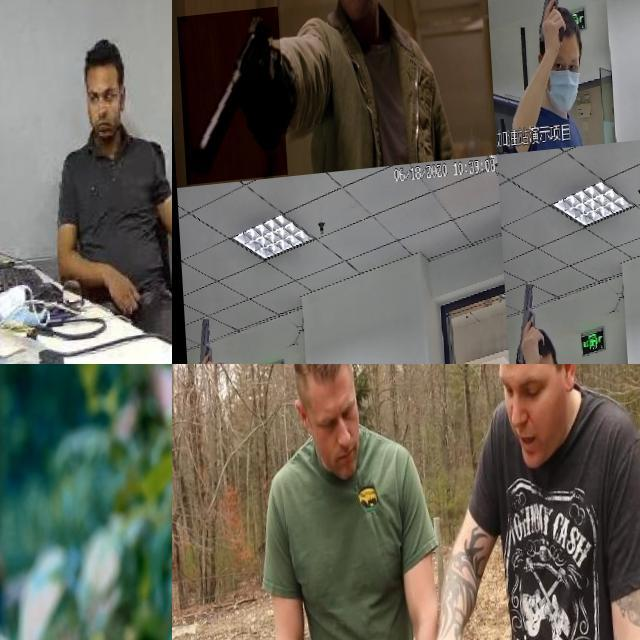gun-knife-thesis - v11 Yolov5 augmented: (175, 9, 284, 186), (505, 282, 539, 364), (527, 0, 567, 57), (182, 314, 216, 364)
